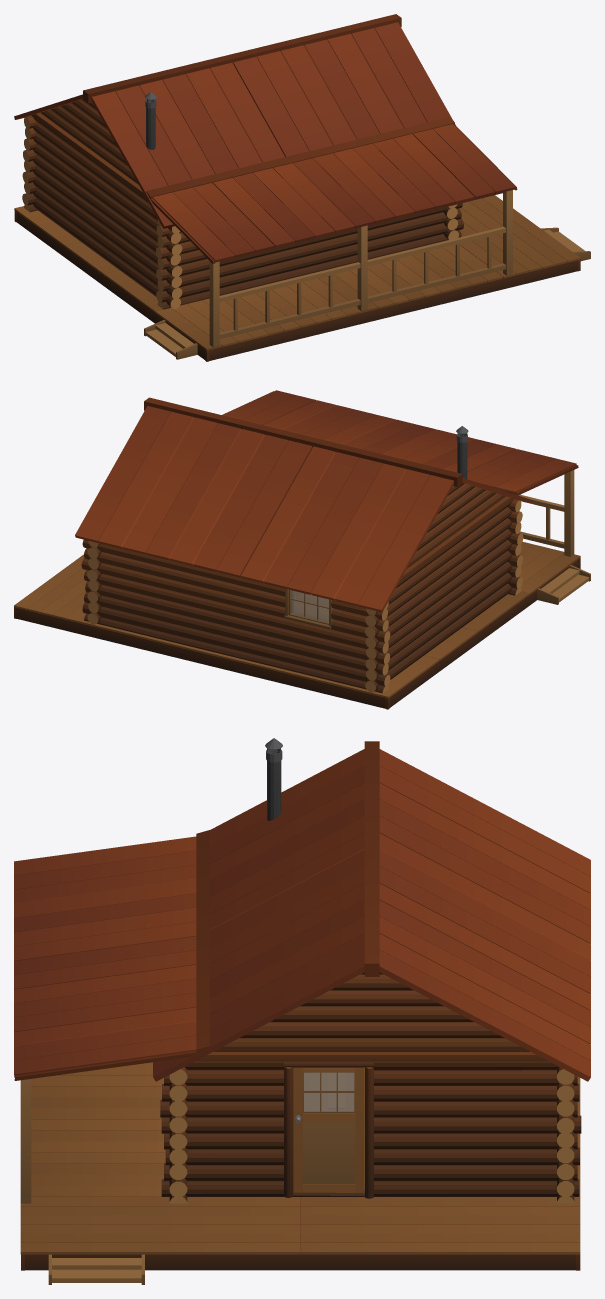
File: Bld_Log_Cabin_02.obj
3 renders of one model, top to bottom at view 1: azimuth 30°, elevation 25°; view 2: azimuth 150°, elevation 25°; view 3: azimuth 270°, elevation 25°, orthographic. The views are drawn at different scales.
Visible parts, largest first — view 1: Bld_Log_Cabin_02; view 2: Bld_Log_Cabin_02, (_ignore)_Bld_Log_Cabin_Windows_02; view 3: Bld_Log_Cabin_02, Bld_Log_Cabin_Door_02, (_ignore)_Bld_Log_Cabin_Door_Window_02.
Boxes of the visible parts, x1,y1,x2,y2 form: Bld_Log_Cabin_02: [14, 14, 590, 361]; Bld_Log_Cabin_02: [14, 390, 590, 709]; (_ignore)_Bld_Log_Cabin_Windows_02: [291, 590, 328, 622]; Bld_Log_Cabin_02: [14, 738, 590, 1284]; Bld_Log_Cabin_Door_02: [293, 1067, 364, 1193]; (_ignore)_Bld_Log_Cabin_Door_Window_02: [304, 1072, 354, 1111].
Bounding box in the file's own units: 9.66 × 4.43 × 8.02.
2 materials, 1 textured.
